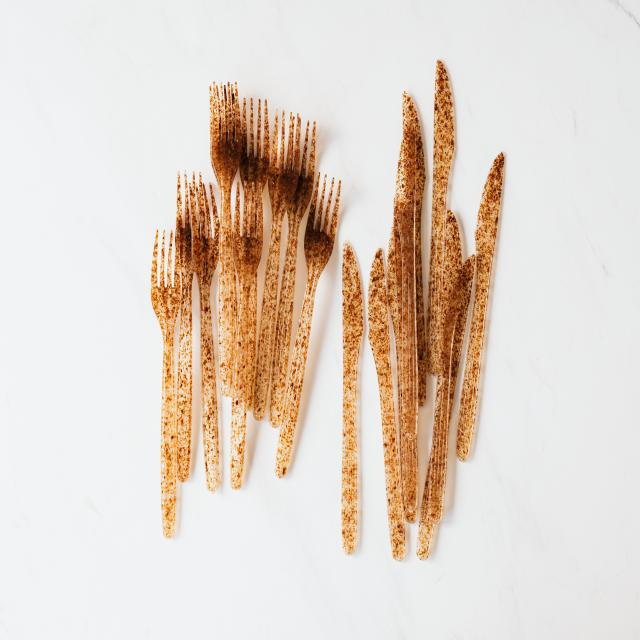plastic: (168, 137, 314, 455), (357, 188, 481, 502)
